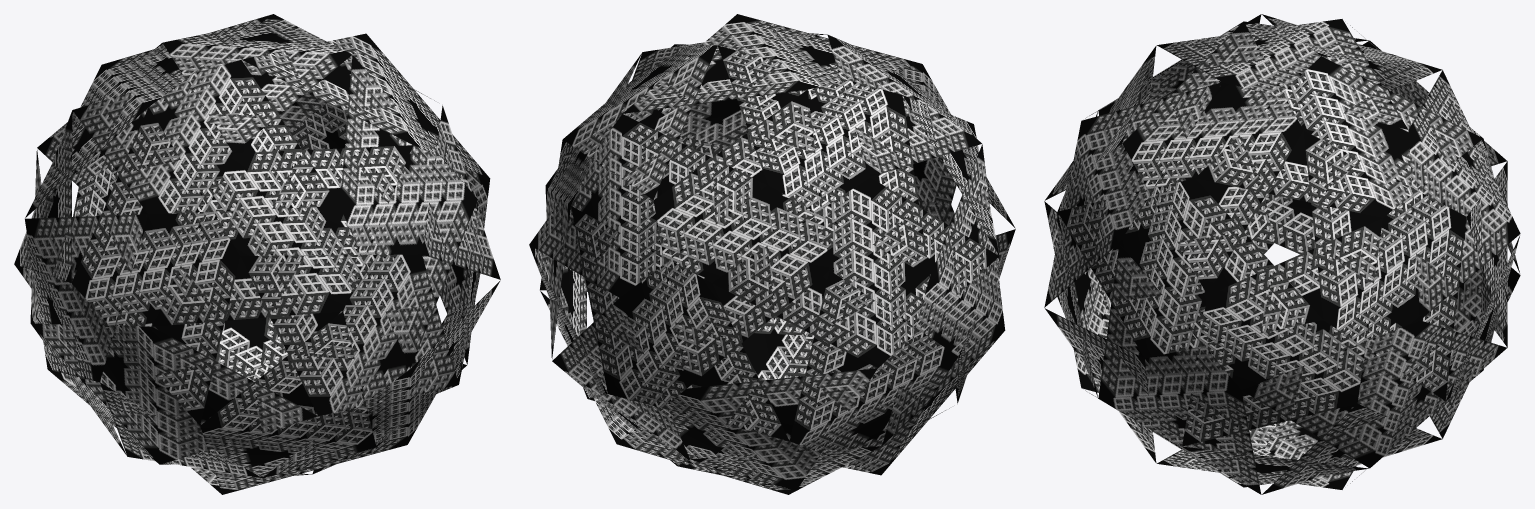
Rendered from 16SnubDodecadodecahedron.gltf.
3 renders of one model, left to right at view 1: azimuth 30°, elevation 25°; view 2: azimuth 150°, elevation 25°; view 3: azimuth 270°, elevation 25°, orthographic.
Visible parts, largest first — view 1: 16SnubDodecadodecahedron; view 2: 16SnubDodecadodecahedron; view 3: 16SnubDodecadodecahedron.
Part boxes in pixels (x1,y1,x2,y2): 16SnubDodecadodecahedron: [14, 14, 500, 494]; 16SnubDodecadodecahedron: [529, 14, 1015, 494]; 16SnubDodecadodecahedron: [1044, 14, 1520, 494].
Bounding box in the file's own units: 2.48 × 2.48 × 2.48.
1 material, 1 textured.
